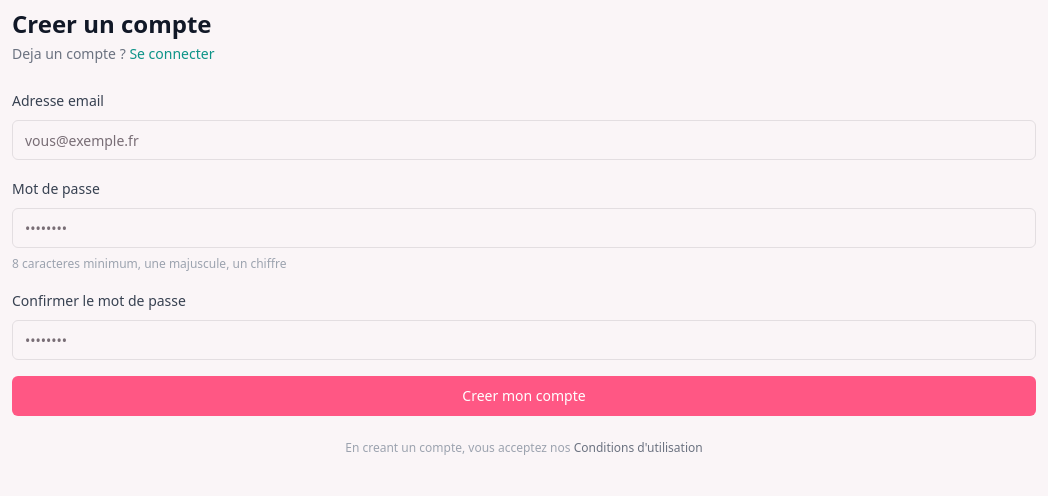
RegisterPage › shows validation error for password that is too short
Type "test@example.com" into the field labelled "Adresse email" at (524, 140), box left=12, top=120, right=1036, bottom=160
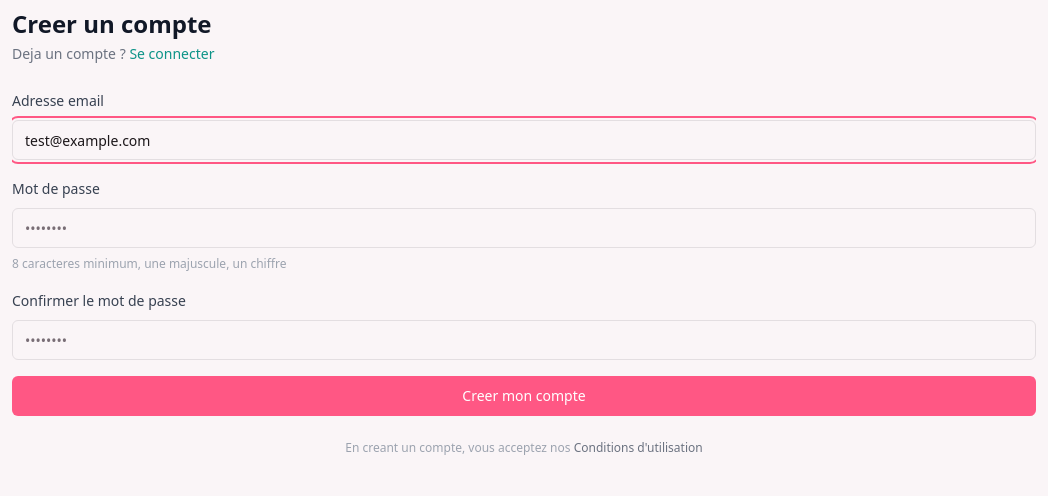
Type "Short1" into the password field labelled "Mot de passe" at (524, 228), box left=12, top=208, right=1036, bottom=248
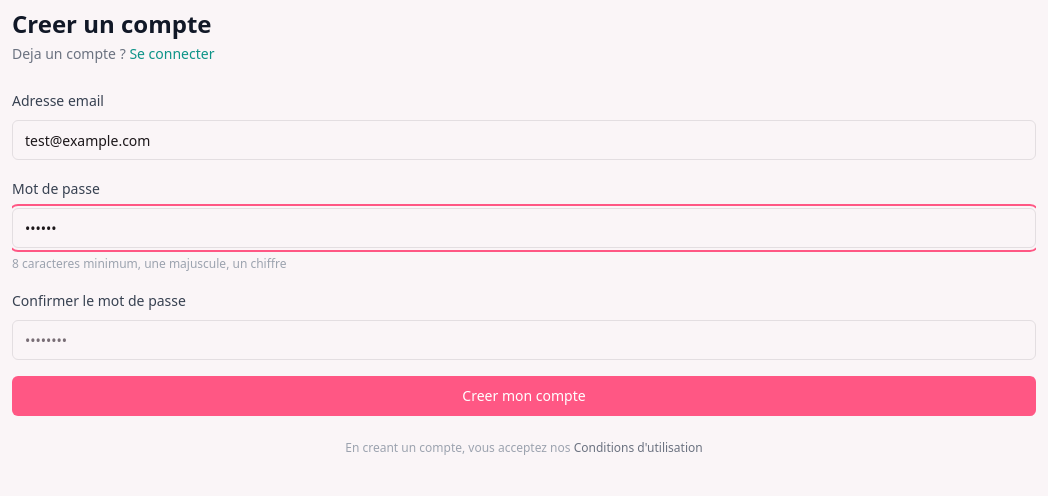
Type "Short1" into the password field labelled "Confirmer le mot de passe" at (524, 340), box left=12, top=320, right=1036, bottom=360
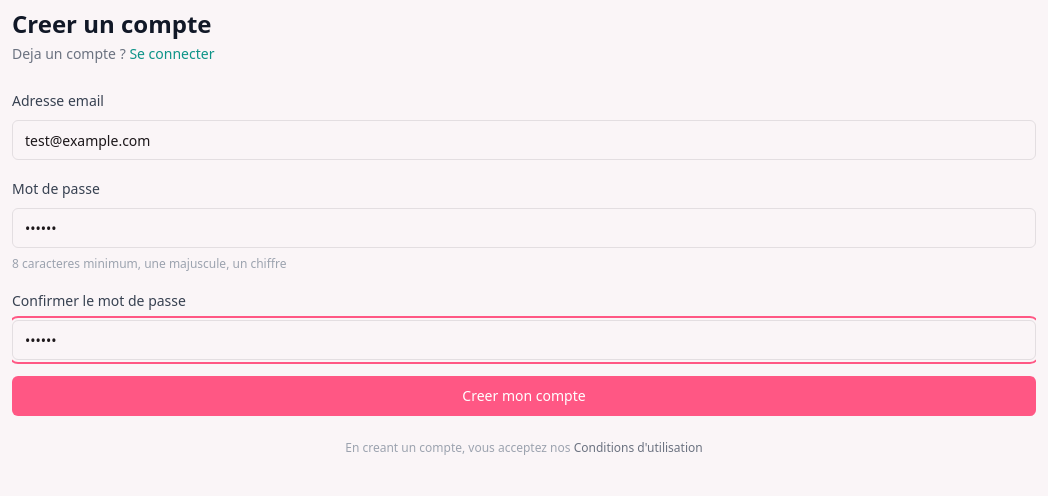
Click the button "Creer mon compte" at (524, 396), box left=12, top=376, right=1036, bottom=416
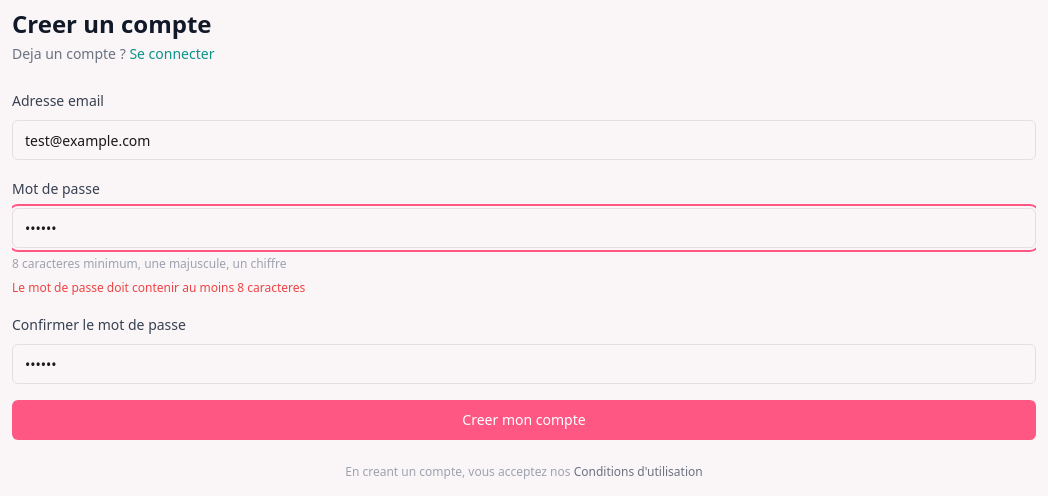
Check: the text "Le mot de passe doit contenir au moins 8 caracteres" is shown, box left=12, top=279, right=305, bottom=296
